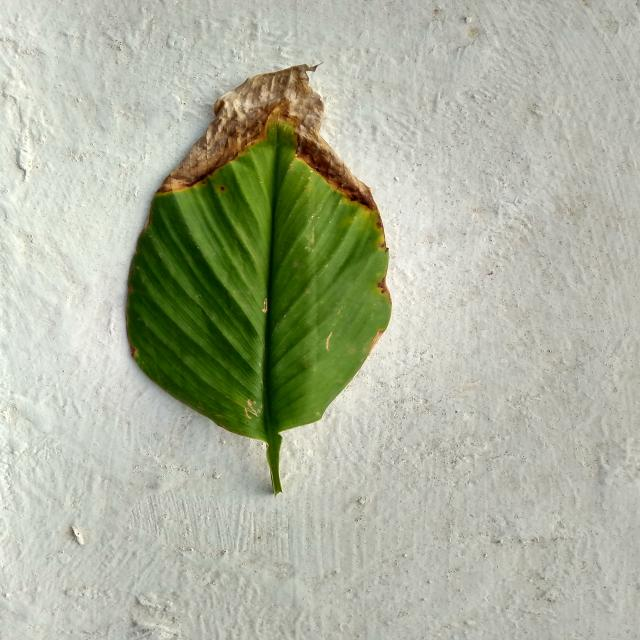leaf blotch: (127, 65, 391, 490)
